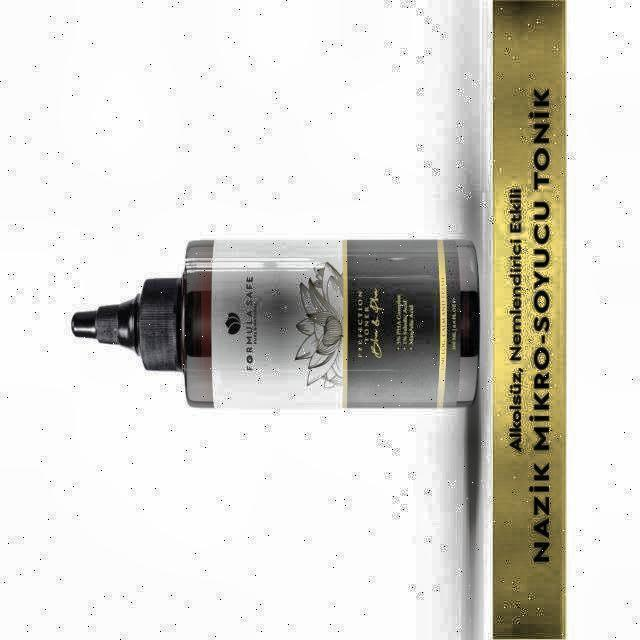plastic: (71, 241, 480, 408)
